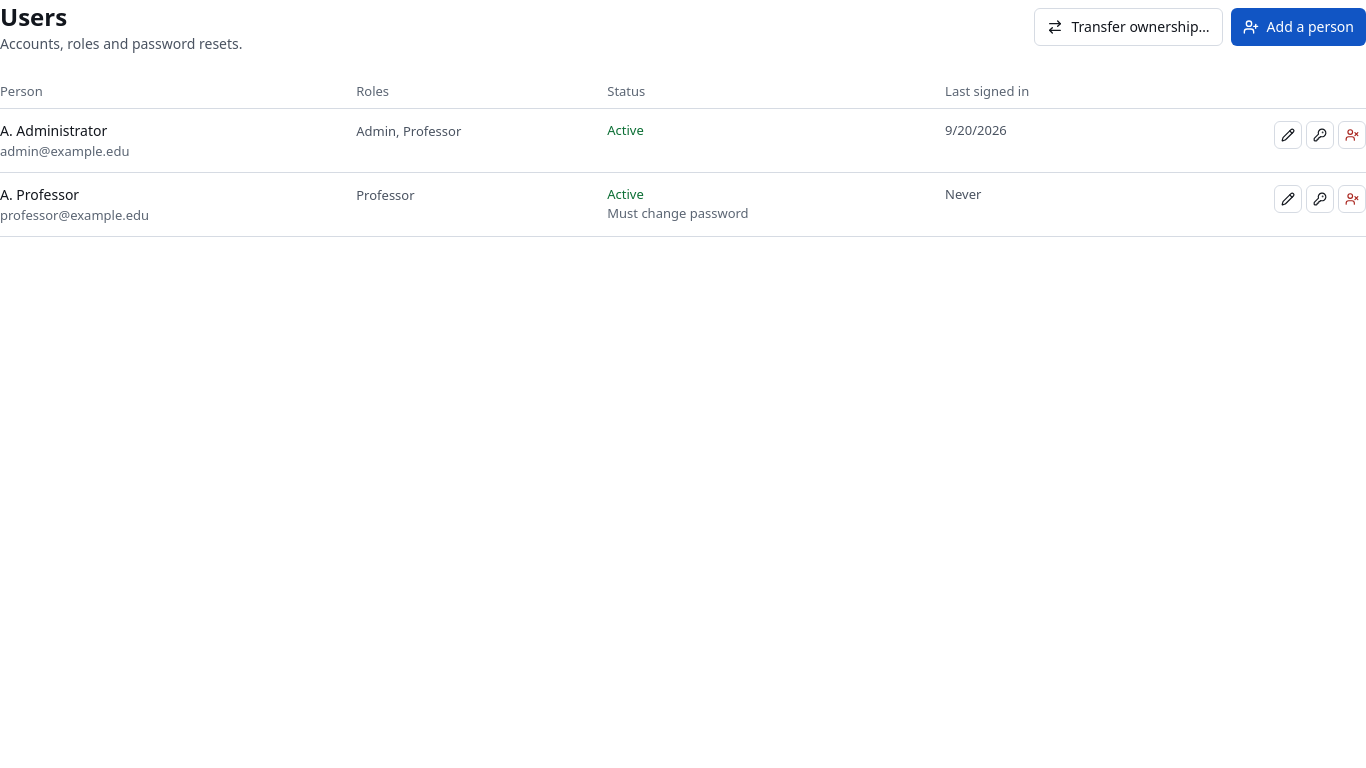
adding a person › asks for no password, and shows the one the server made — once
expect the text "A. Administrator" is shown: met, box [0,122,107,140]
Click the button "Add a person" at (1298, 27), box [1231,8,1365,46]
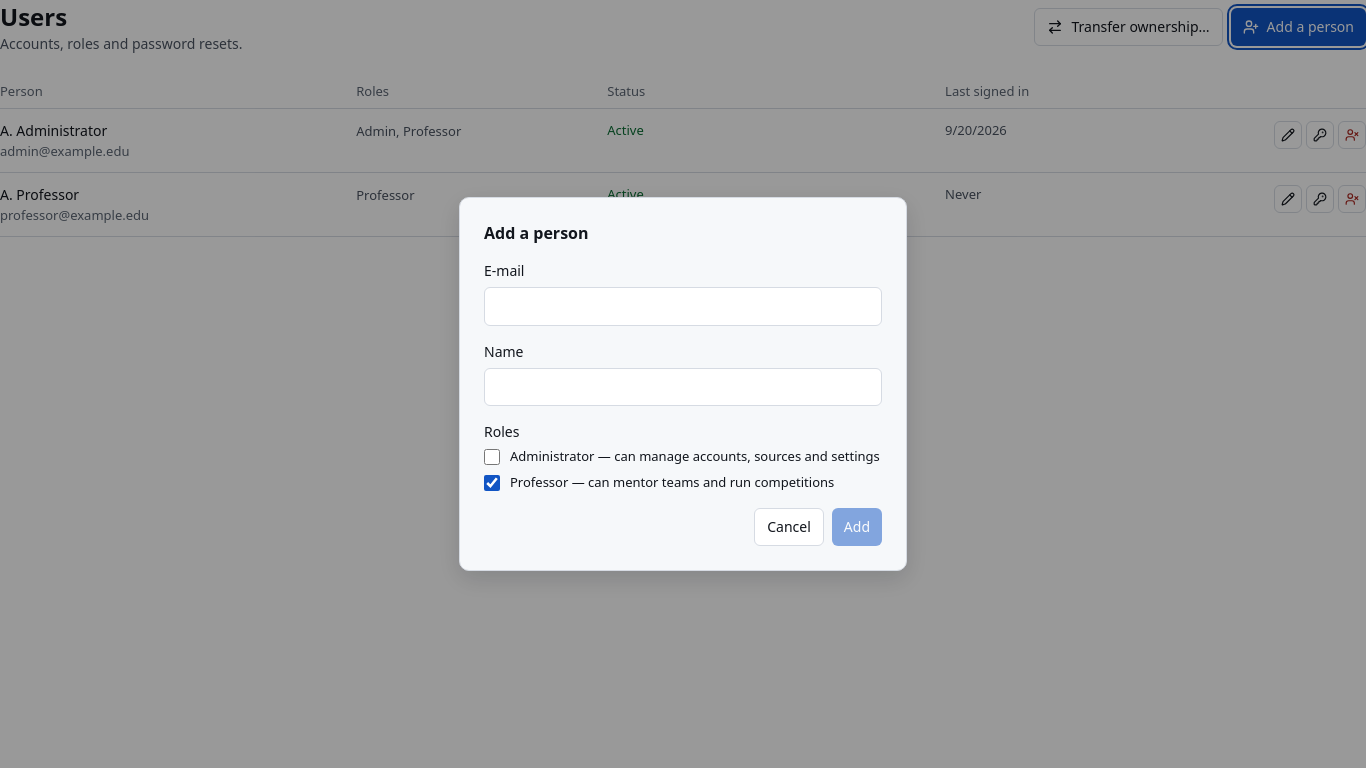
Type "new@example.edu" into the field labelled "E-mail" at (683, 307), box [484,287,882,326]
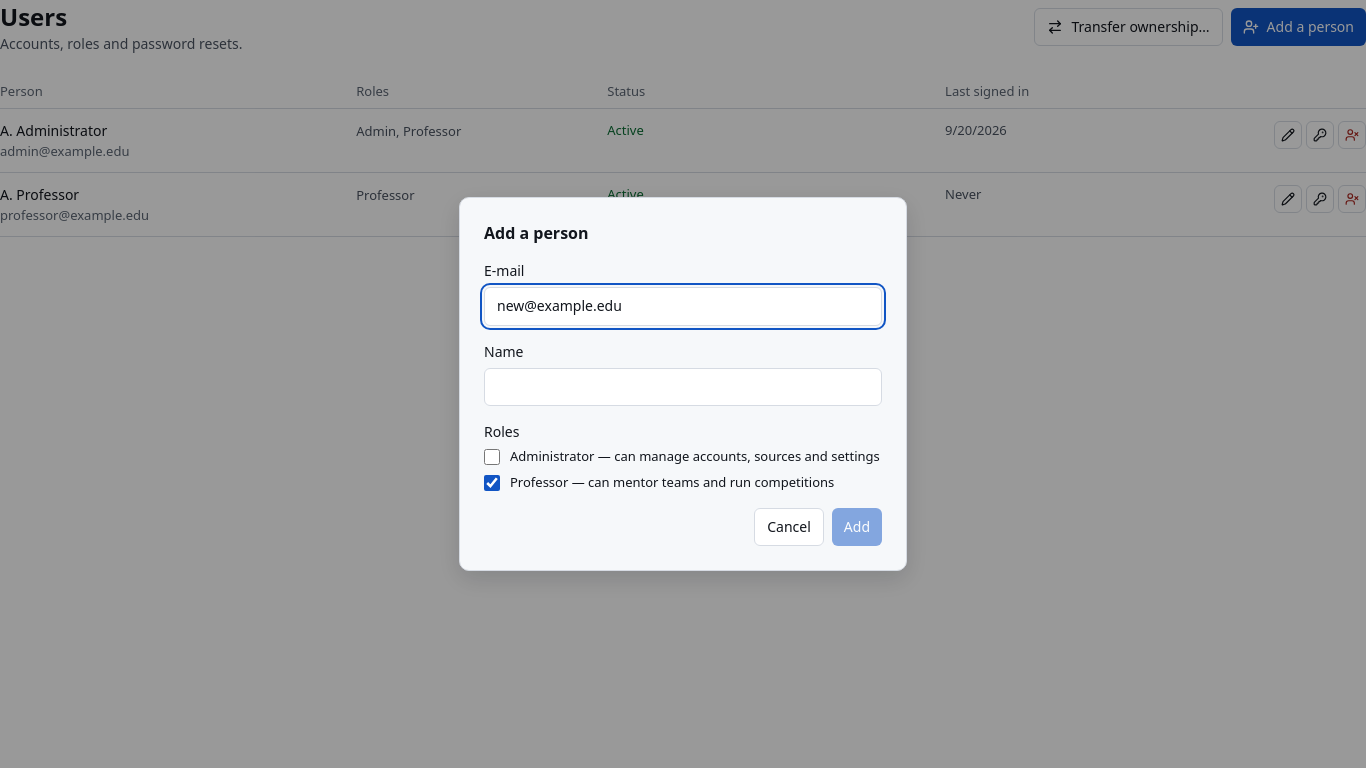
Type "New Person" into the field labelled "Name" at (683, 387), box [484,368,882,406]
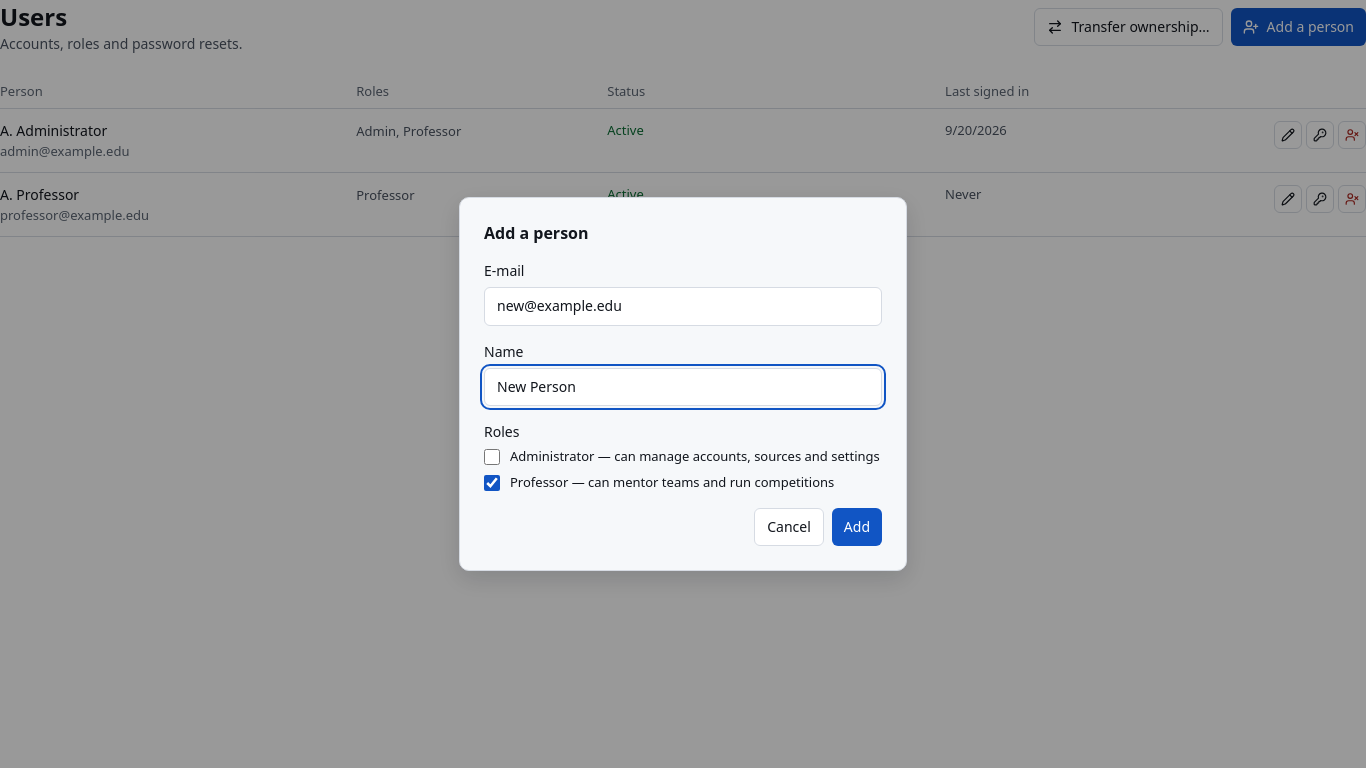
Click the button "Add" at (857, 527), box [832,508,882,546]
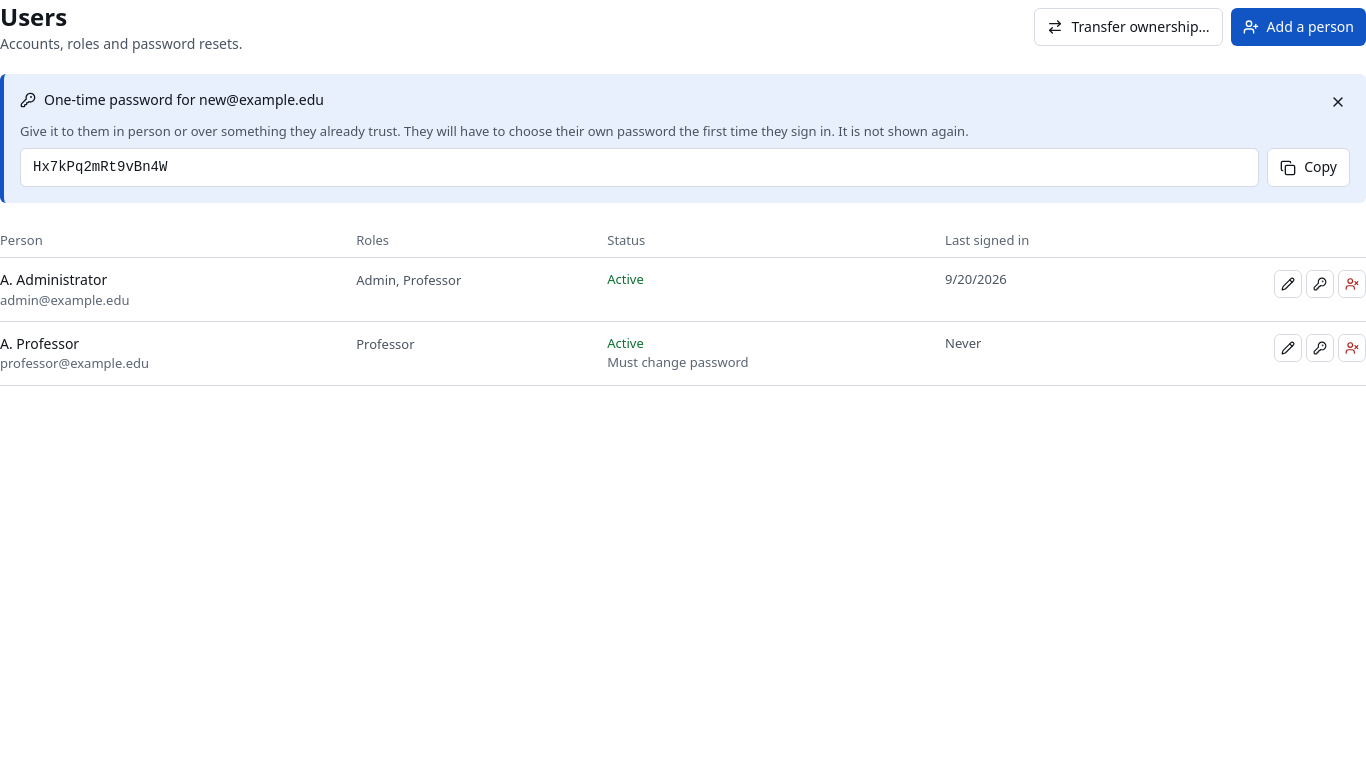
expect the text "Hx7kPq2mRt9vBn4W" is shown: met, box [20,148,1259,187]
expect the text "not shown again" is shown: met, box [20,122,969,140]
Click the button named "Dismiss the one-time password" at (1338, 102), box [1326,90,1350,114]
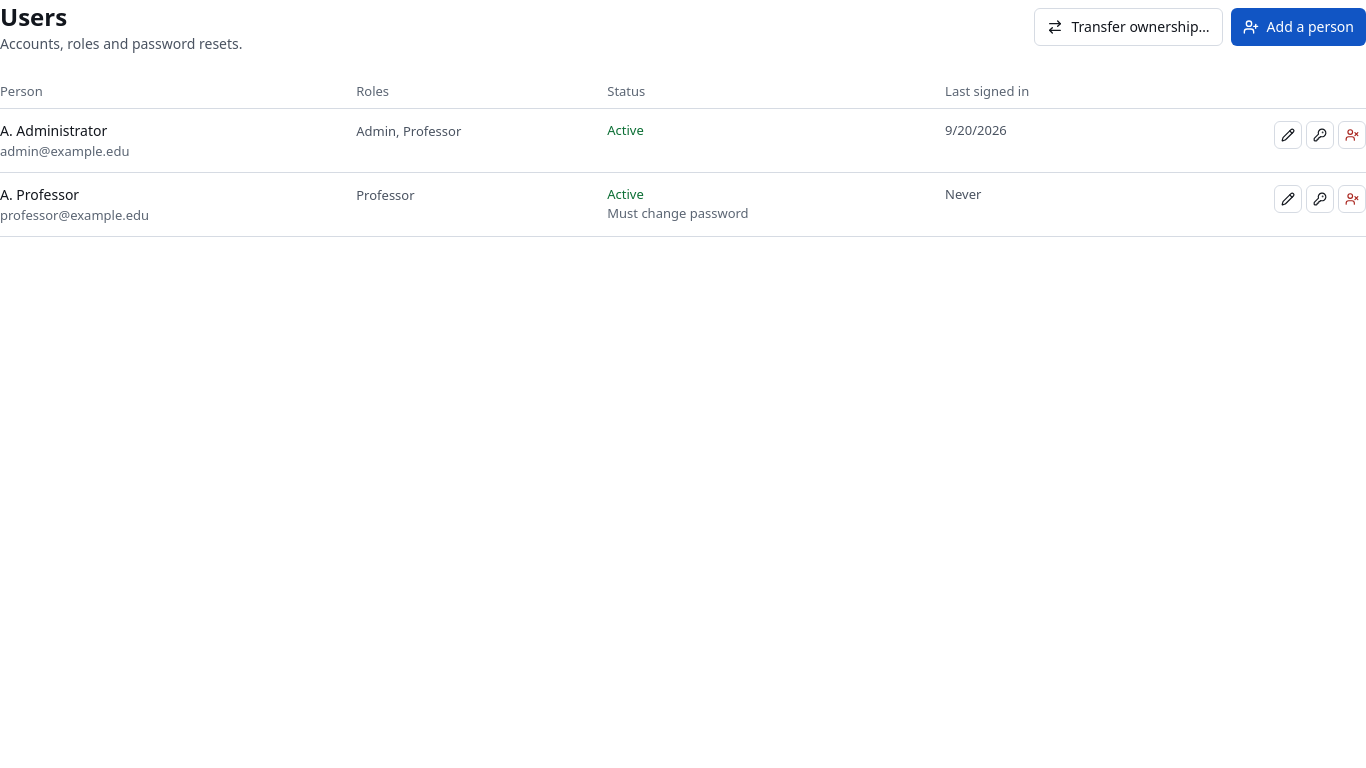
expect the text "Hx7kPq2mRt9vBn4W" is gone: met
